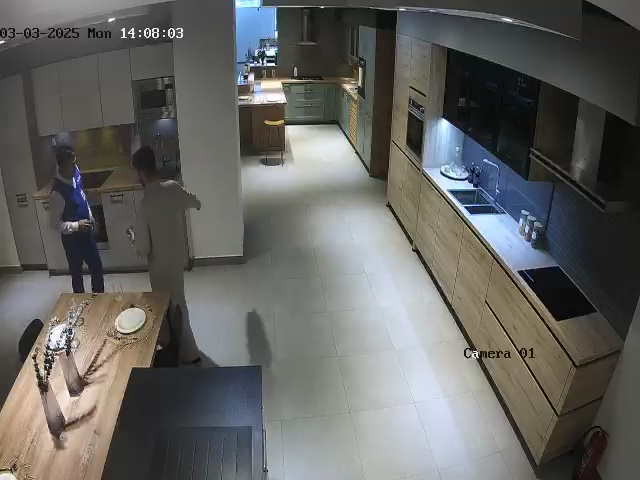employee: (49, 143, 106, 294)
male: (127, 144, 202, 365)
